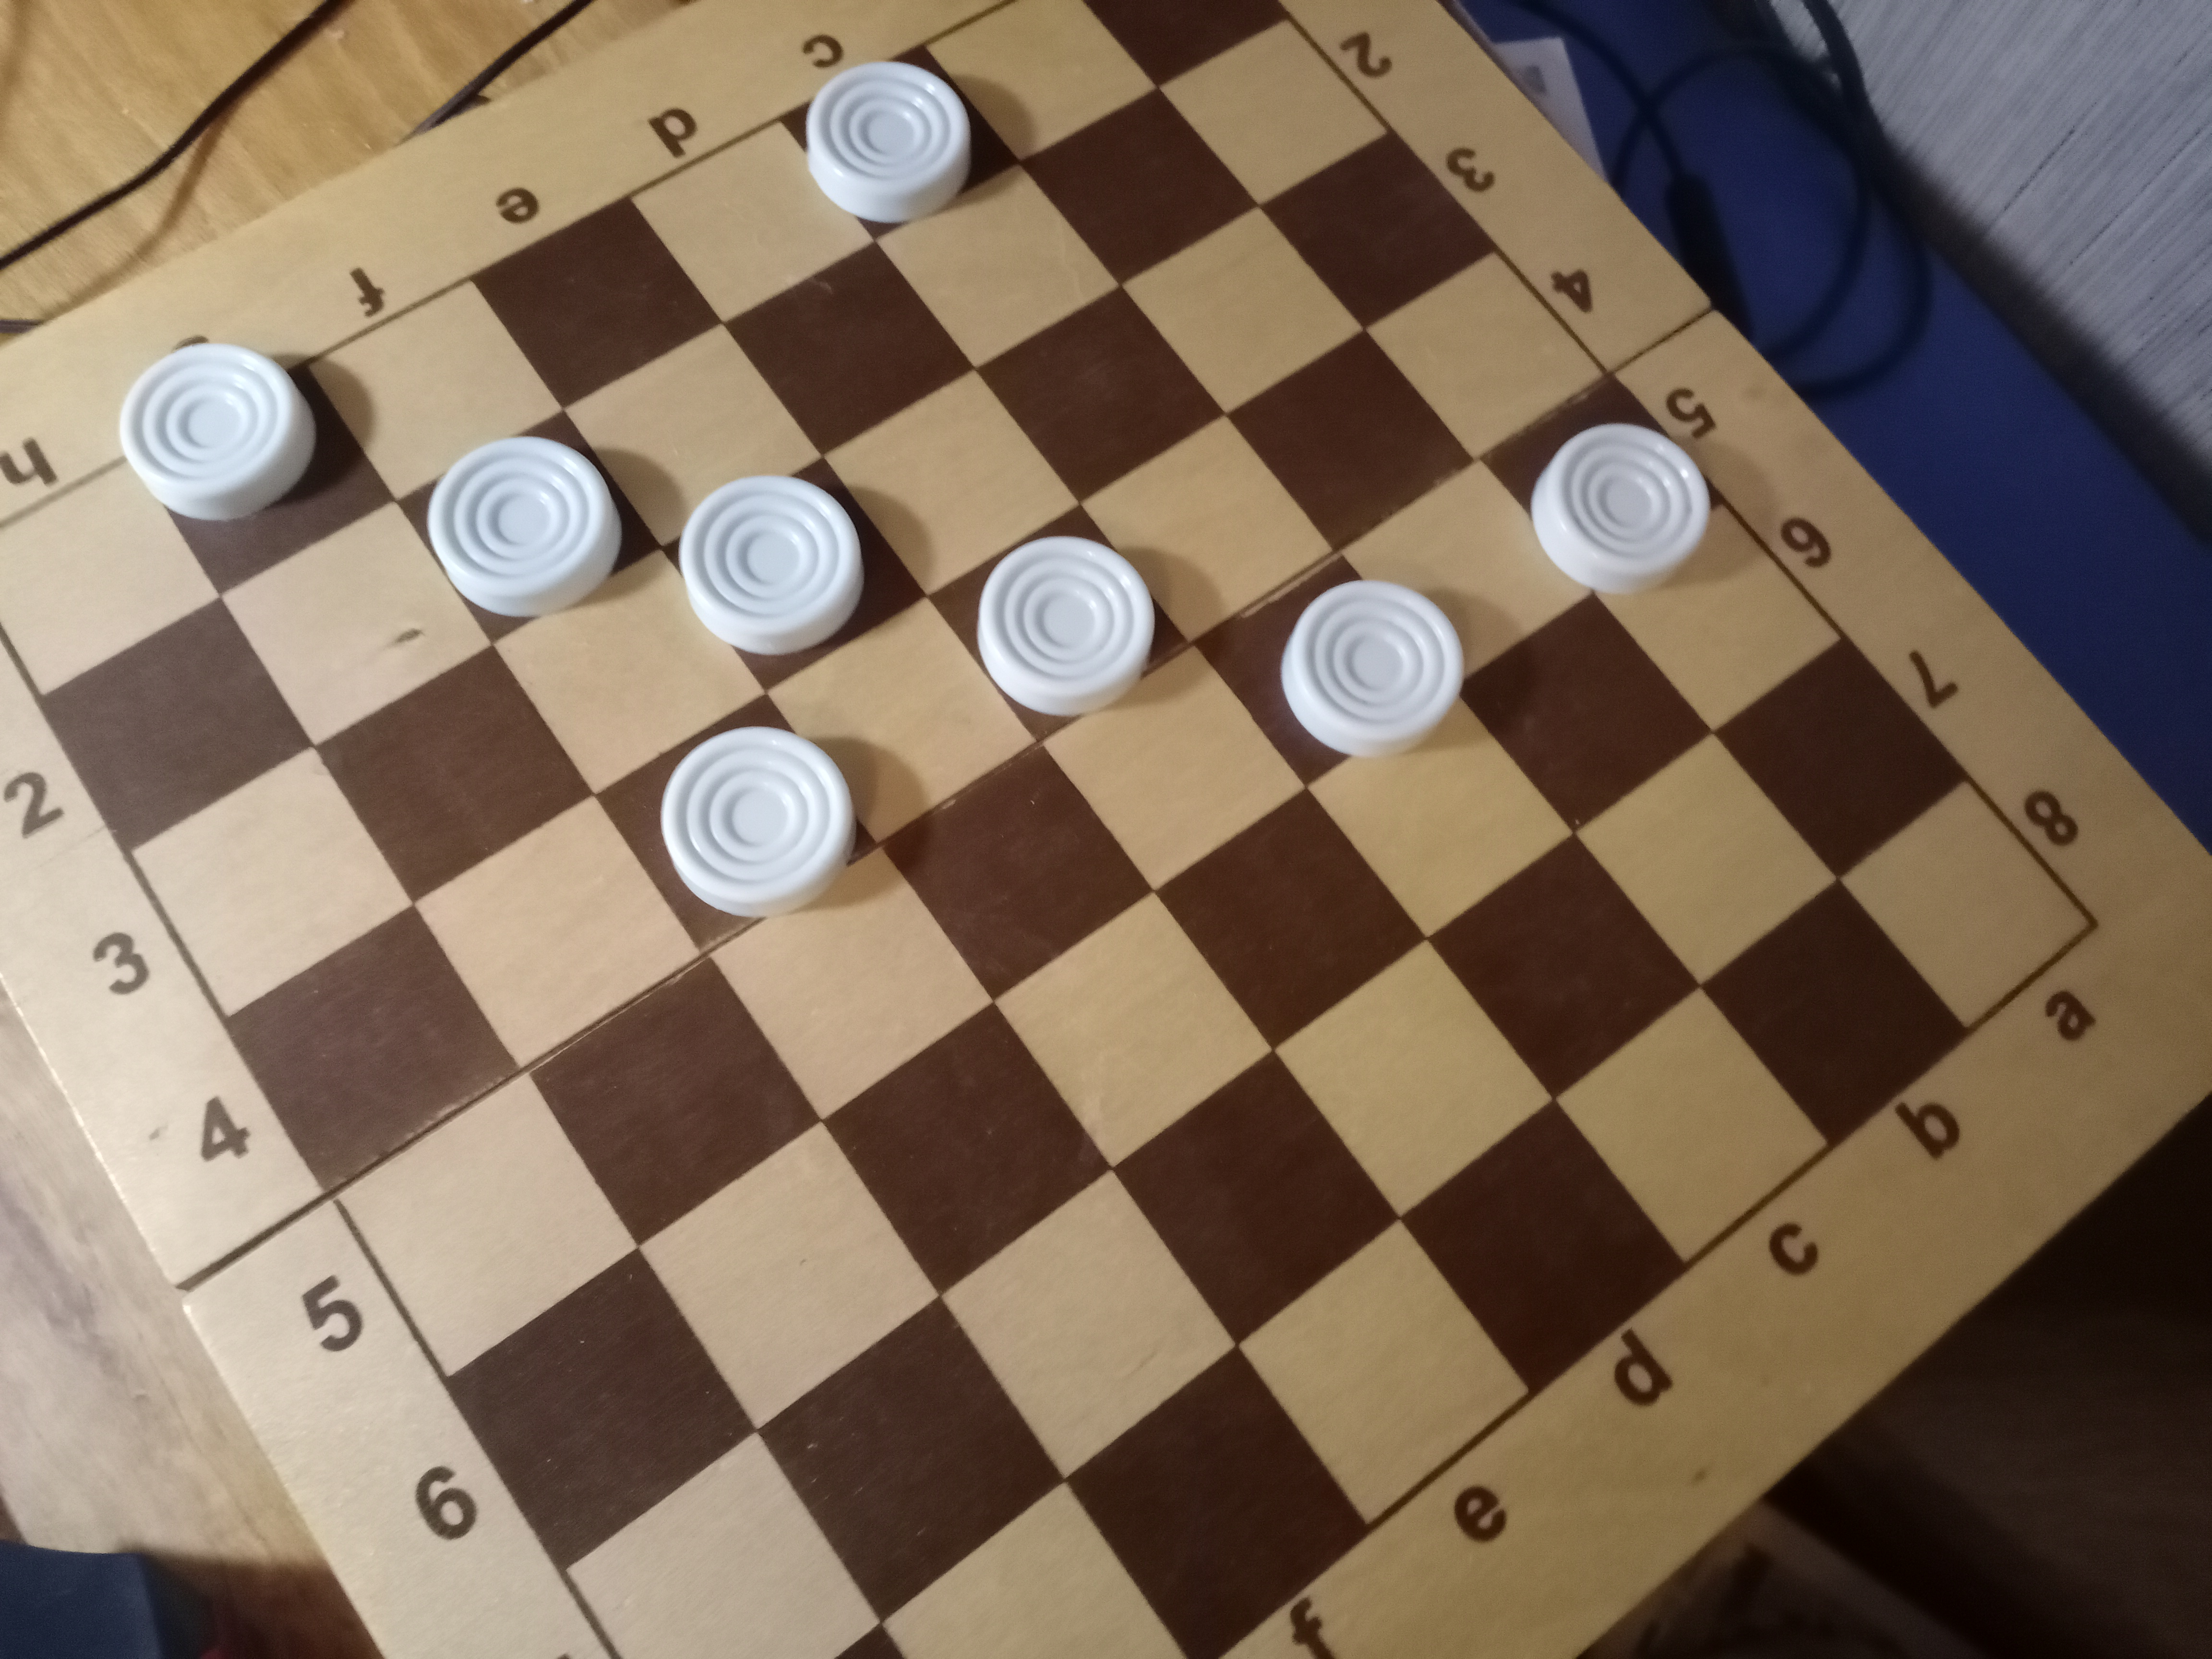White_Draught: (594, 692, 878, 951), (118, 343, 395, 599), (927, 504, 1190, 744), (662, 455, 927, 692), (1193, 556, 1465, 786), (395, 410, 662, 643), (1482, 376, 1721, 592), (777, 44, 1021, 242)
